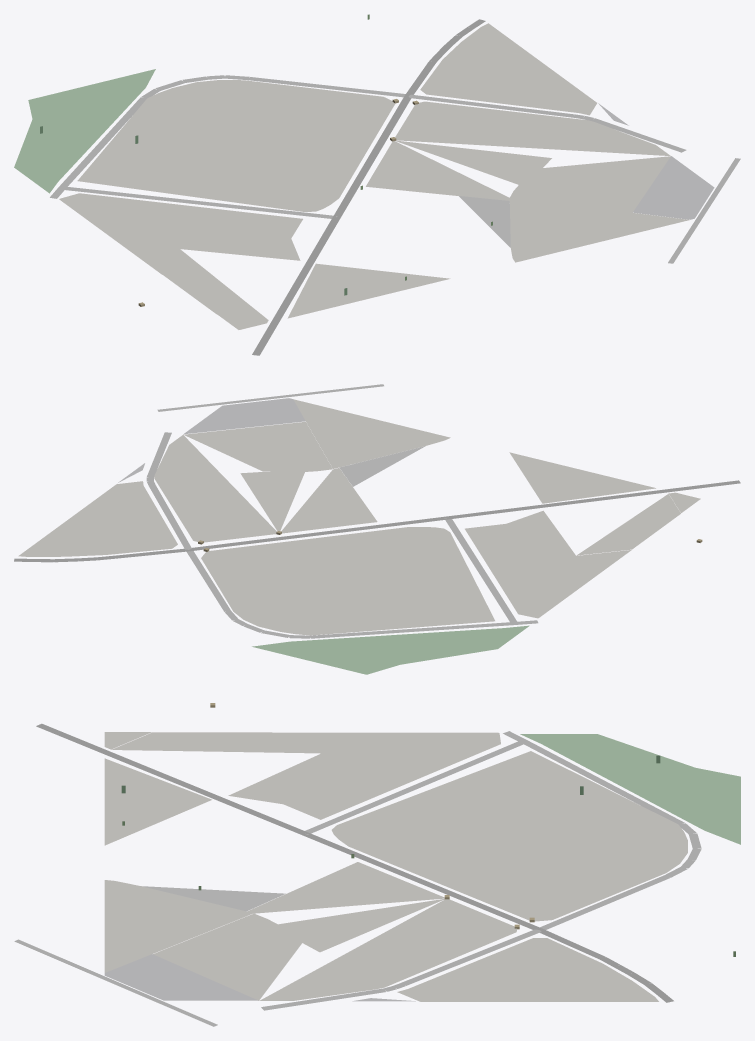
3 renders of one model, top to bottom at view 1: azimuth 30°, elevation 25°; view 2: azimuth 150°, elevation 25°; view 3: azimuth 270°, elevation 25°, orthographic. The views are drawn at different scales.
Bounding box in the file's own units: 598 × 8.7 × 571.
